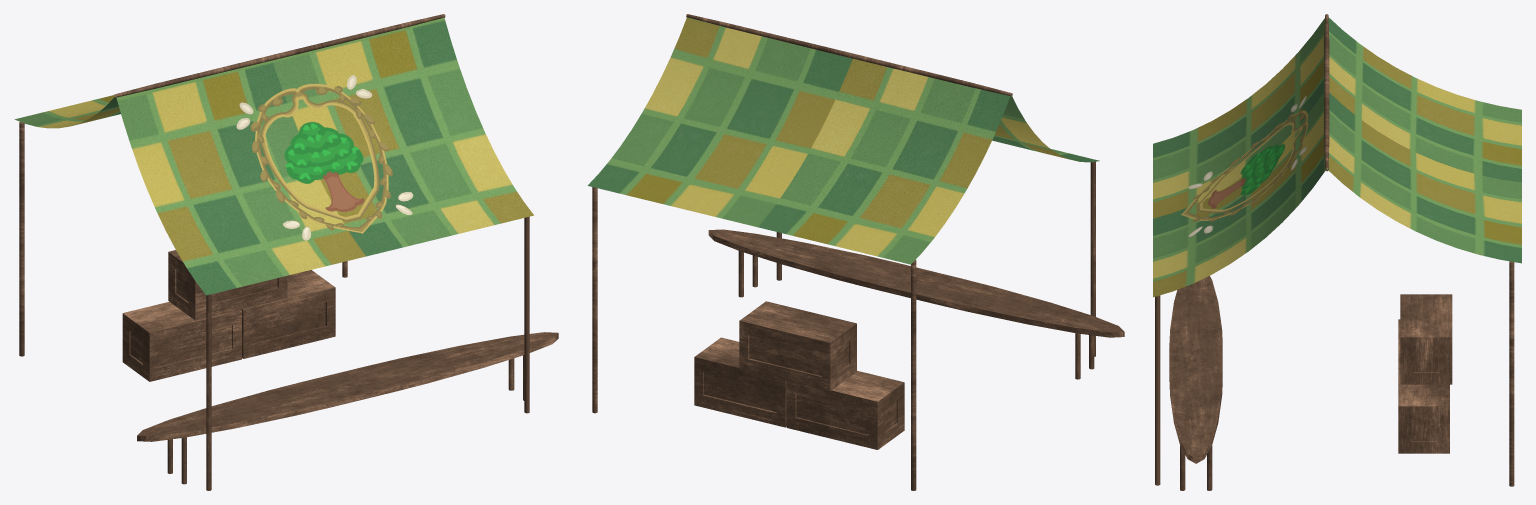
The model's file is shop_stall_low_poly.fbx.
The picture shows the model from 3 angles, left to right: view 1: azimuth 30°, elevation 25°; view 2: azimuth 150°, elevation 25°; view 3: azimuth 270°, elevation 25°; orthographic projection. The views are drawn at different scales.
Visible parts, largest first — view 1: cloth, pCylinder6, pCube8, pCube7, pCube6, pCylinder5, pCylinder3, pCylinder1, pCylinder2; view 2: cloth, pCylinder6, pCube6, pCube8, pCube7, pCylinder5, pCylinder3, pCylinder4, pCylinder2; view 3: cloth, pCylinder6, pCube6, pCube7, pCylinder4, pCylinder1, pCylinder5.
Boxes of the visible parts, <box> form: cloth: <box>14,17,533,295</box>; pCylinder6: <box>137,332,558,441</box>; pCube8: <box>122,301,241,381</box>; pCube7: <box>241,270,335,358</box>; pCube6: <box>168,250,287,320</box>; pCylinder5: <box>114,14,445,97</box>; pCylinder3: <box>19,122,24,356</box>; pCylinder1: <box>524,216,529,413</box>; pCylinder2: <box>206,294,211,490</box>; cloth: <box>587,17,1099,264</box>; pCylinder6: <box>708,229,1124,337</box>; pCube6: <box>739,301,856,391</box>; pCube8: <box>786,370,904,449</box>; pCube7: <box>694,337,786,427</box>; pCylinder5: <box>686,14,1012,96</box>; pCylinder3: <box>911,260,916,490</box>; pCylinder4: <box>592,187,597,413</box>; pCylinder2: <box>1090,161,1095,356</box>; cloth: <box>1153,17,1521,297</box>; pCylinder6: <box>1169,276,1222,463</box>; pCube6: <box>1400,294,1452,384</box>; pCube7: <box>1398,363,1449,453</box>; pCylinder4: <box>1509,261,1514,486</box>; pCylinder1: <box>1155,295,1160,485</box>; pCylinder5: <box>1324,14,1329,171</box>.
Bounding box in the file's own units: 9 × 6.79 × 7.1.
Materials: 2 (2 with a texture image).
